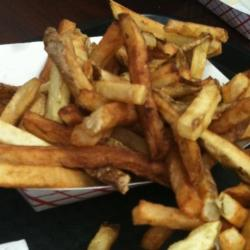fries: (29, 20, 233, 196)
